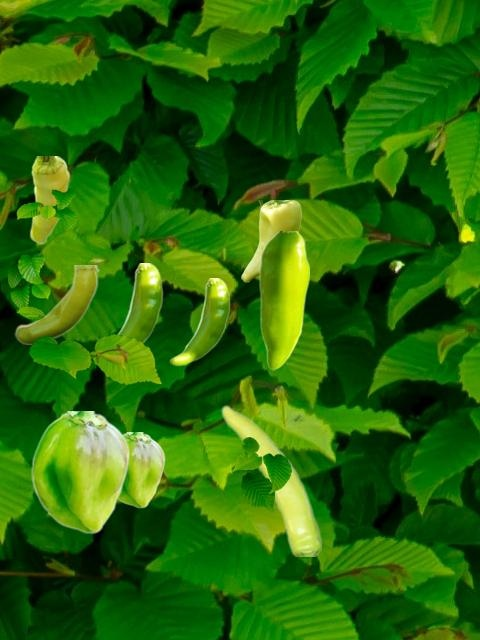green_chili: (221, 404, 320, 555), (31, 411, 129, 533), (259, 231, 308, 369), (14, 265, 98, 343), (169, 278, 229, 365), (241, 200, 300, 281), (117, 263, 162, 343), (29, 156, 69, 243), (118, 432, 164, 507)
